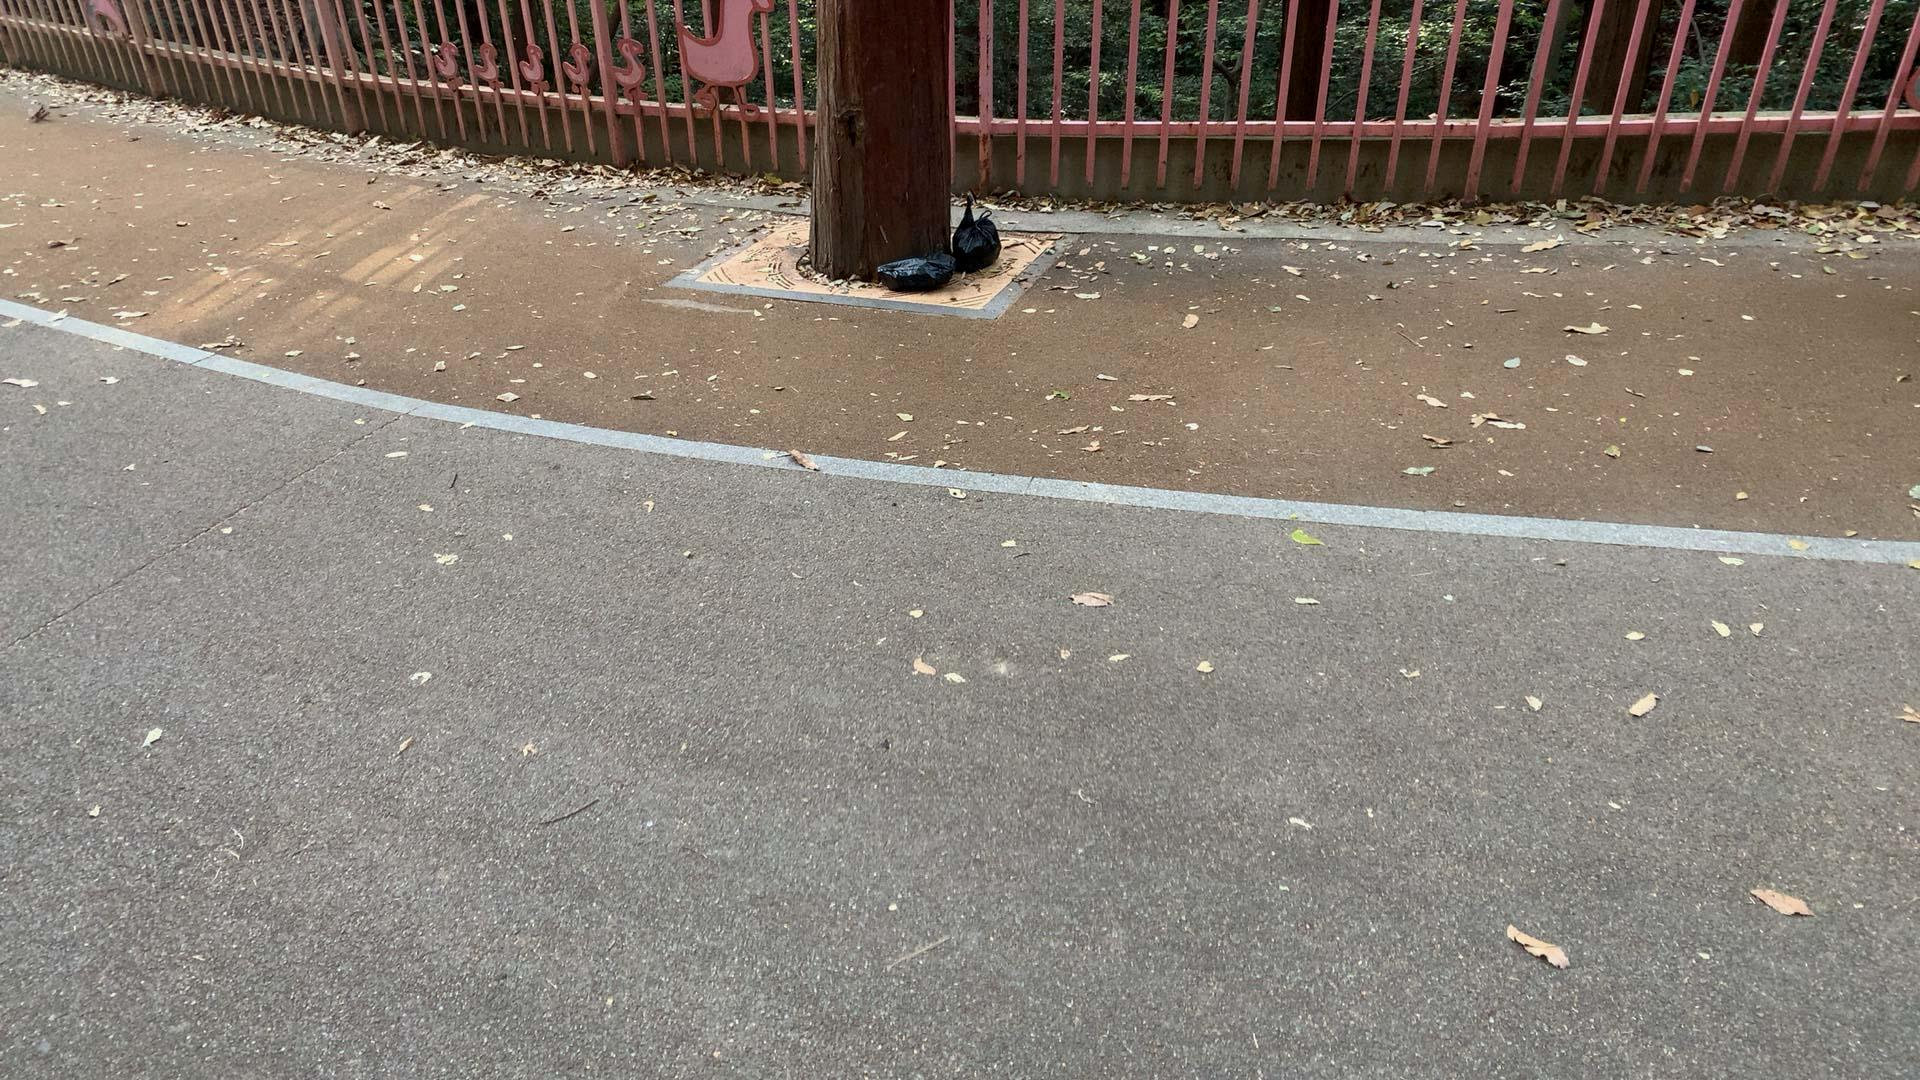black_bag: (949, 195, 1006, 272), (873, 251, 953, 291)
